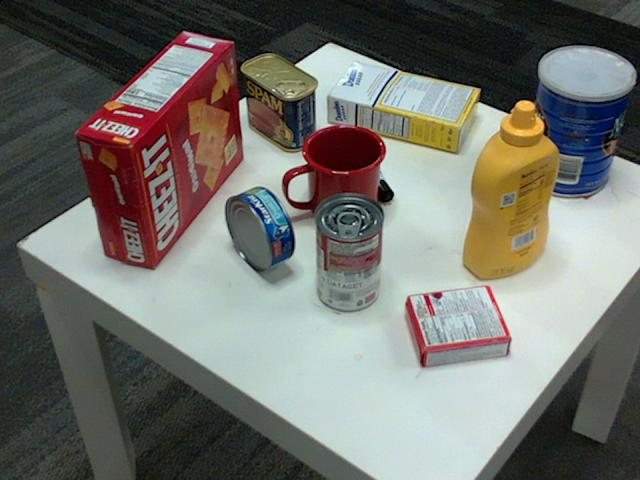cracker_box: (75, 29, 243, 265)
gelatin_box: (403, 286, 512, 367)
large_marker: (347, 137, 392, 201)
master_chef_can: (521, 46, 634, 197)
mug: (285, 122, 387, 224)
mustard_bottle: (461, 101, 559, 277)
potted_meat_can: (238, 55, 317, 151)
sugar_box: (328, 61, 482, 152)
tomato_soup_can: (315, 193, 384, 311)
tuna_fish_can: (225, 186, 295, 272)
